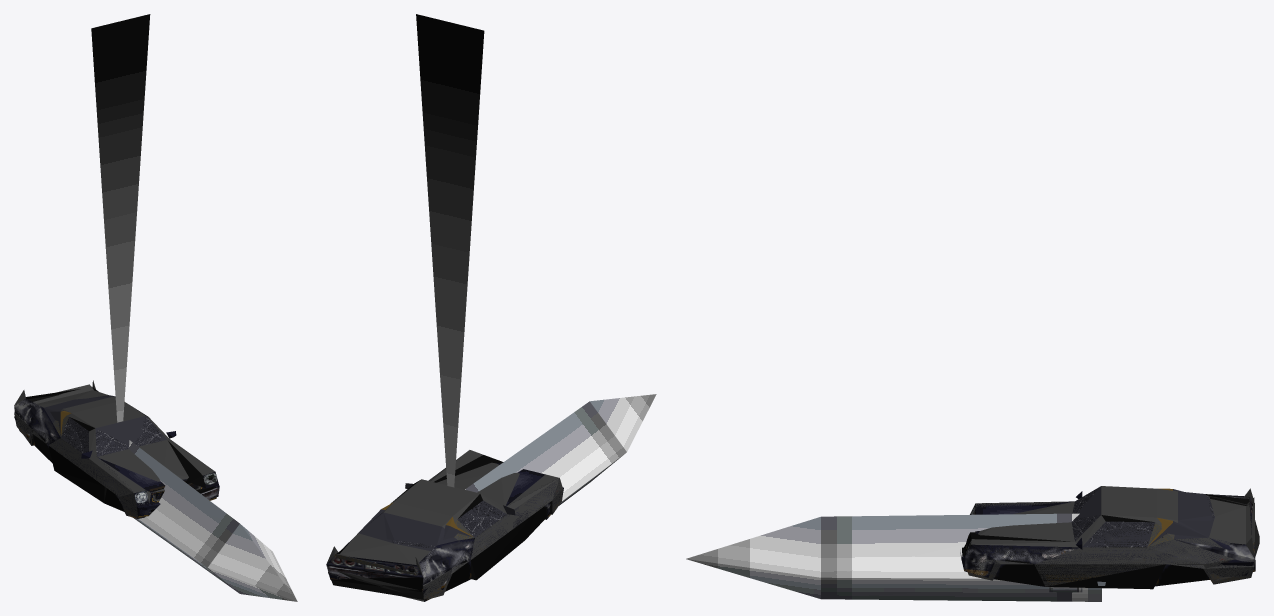
The model's file is v82_thunderbolt.obj.
3 views of the same model, side by side, from view 1: azimuth 30°, elevation 25°; view 2: azimuth 150°, elevation 25°; view 3: azimuth 270°, elevation 25° (orthographic). The views are drawn at different scales.
Visible parts, largest first — view 1: v82_thunderbolt_tmd_018, v82_thunderbolt_tmd_031, v82_thunderbolt_tmd_006, v82_thunderbolt_tmd_017, v82_thunderbolt_tmd_007, v82_thunderbolt_tmd_013, v82_thunderbolt_tmd_016, v82_thunderbolt_tmd_011; view 2: v82_thunderbolt_tmd_018, v82_thunderbolt_tmd_031, v82_thunderbolt_tmd_006, v82_thunderbolt_tmd_013, v82_thunderbolt_tmd_011, v82_thunderbolt_tmd_017, v82_thunderbolt_tmd_016, v82_thunderbolt_tmd_012, v82_thunderbolt_tmd_007; view 3: v82_thunderbolt_tmd_031, v82_thunderbolt_tmd_006, v82_thunderbolt_tmd_011, v82_thunderbolt_tmd_007, v82_thunderbolt_tmd_016, v82_thunderbolt_tmd_017, v82_thunderbolt_tmd_013, v82_thunderbolt_tmd_012.
Part boxes in pixels (<box>): v82_thunderbolt_tmd_018: <box>91,14,150,422</box>; v82_thunderbolt_tmd_031: <box>128,440,297,601</box>; v82_thunderbolt_tmd_006: <box>48,402,216,517</box>; v82_thunderbolt_tmd_017: <box>14,387,218,517</box>; v82_thunderbolt_tmd_007: <box>62,418,219,518</box>; v82_thunderbolt_tmd_013: <box>14,380,111,444</box>; v82_thunderbolt_tmd_016: <box>14,395,186,511</box>; v82_thunderbolt_tmd_011: <box>26,384,115,445</box>; v82_thunderbolt_tmd_018: <box>416,14,484,487</box>; v82_thunderbolt_tmd_031: <box>465,394,656,505</box>; v82_thunderbolt_tmd_006: <box>391,472,563,580</box>; v82_thunderbolt_tmd_013: <box>326,512,474,592</box>; v82_thunderbolt_tmd_011: <box>335,502,474,599</box>; v82_thunderbolt_tmd_017: <box>331,455,549,591</box>; v82_thunderbolt_tmd_016: <box>331,463,557,601</box>; v82_thunderbolt_tmd_012: <box>328,540,468,599</box>; v82_thunderbolt_tmd_007: <box>428,450,550,534</box>; v82_thunderbolt_tmd_031: <box>686,513,1101,601</box>; v82_thunderbolt_tmd_006: <box>968,486,1165,586</box>; v82_thunderbolt_tmd_011: <box>1147,488,1259,581</box>; v82_thunderbolt_tmd_007: <box>960,491,1154,577</box>; v82_thunderbolt_tmd_016: <box>974,488,1254,586</box>; v82_thunderbolt_tmd_017: <box>962,494,1255,589</box>; v82_thunderbolt_tmd_013: <box>1175,488,1255,571</box>; v82_thunderbolt_tmd_012: <box>1168,495,1254,584</box>.
Size of the model in its own units: 0.668 by 3.27 by 2.98.
Materials: 48 (37 with a texture image).
